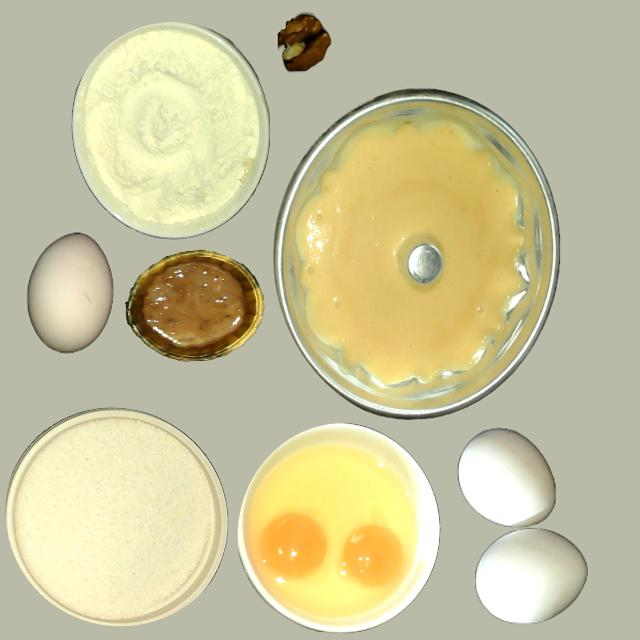Egg: (259, 512, 328, 580), (341, 525, 404, 586)
Flour: (79, 30, 260, 228)
Sugar: (13, 416, 214, 624)
